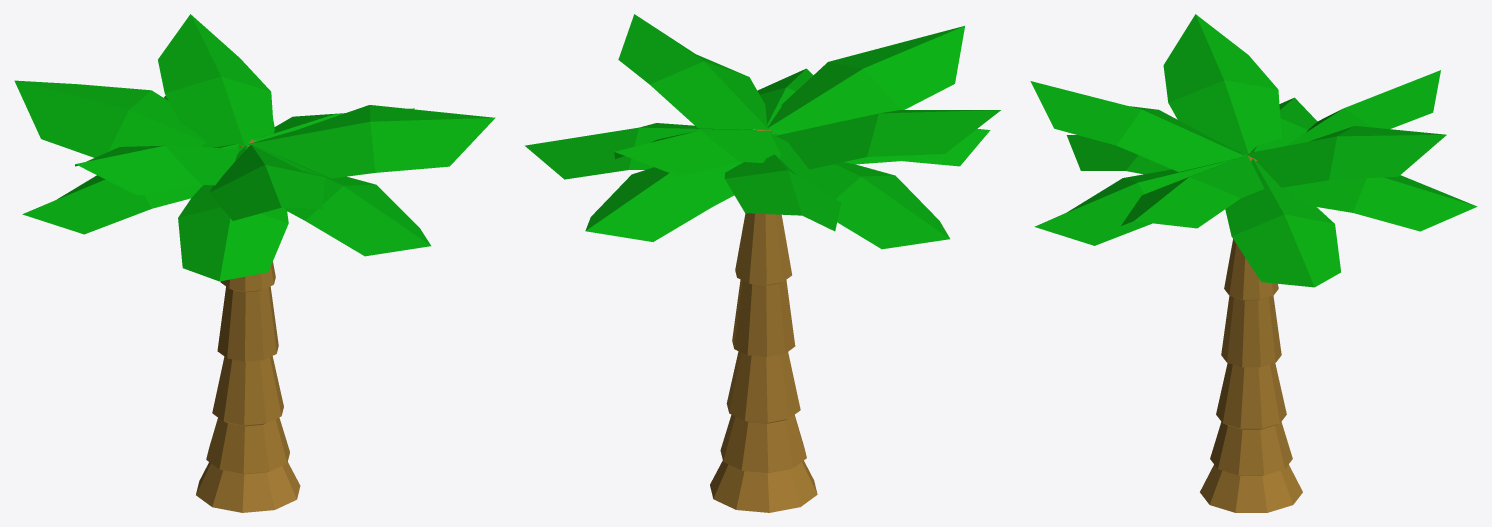
File: PalmTree.glb
The picture shows the model from 3 angles, left to right: view 1: azimuth 30°, elevation 25°; view 2: azimuth 150°, elevation 25°; view 3: azimuth 270°, elevation 25°; orthographic projection. The views are drawn at different scales.
Parts seen in each view (by area): view 1: Palmtree; view 2: Palmtree; view 3: Palmtree.
Boxes of the visible parts, x1,y1,x2,y2 form: Palmtree: (14, 14, 495, 512); Palmtree: (525, 14, 1000, 512); Palmtree: (1030, 14, 1477, 512).
Size of the model in its own units: 11.59 by 10.9 by 11.54.
